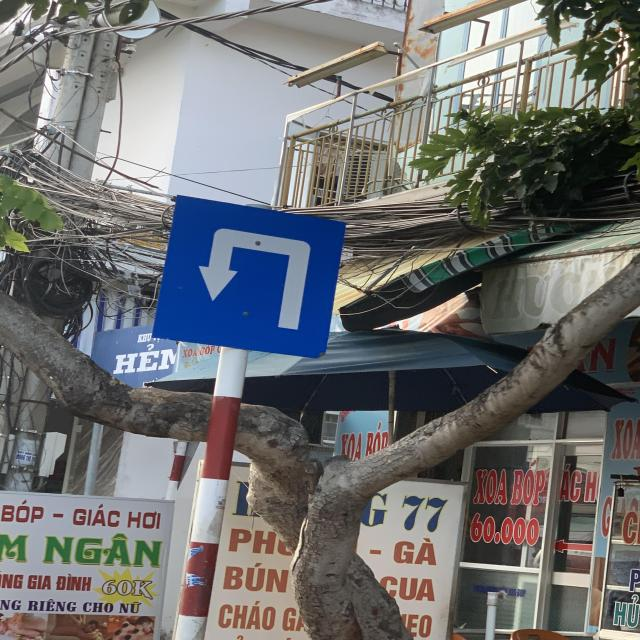Den_Giao_Thong: (152, 194, 346, 358)
